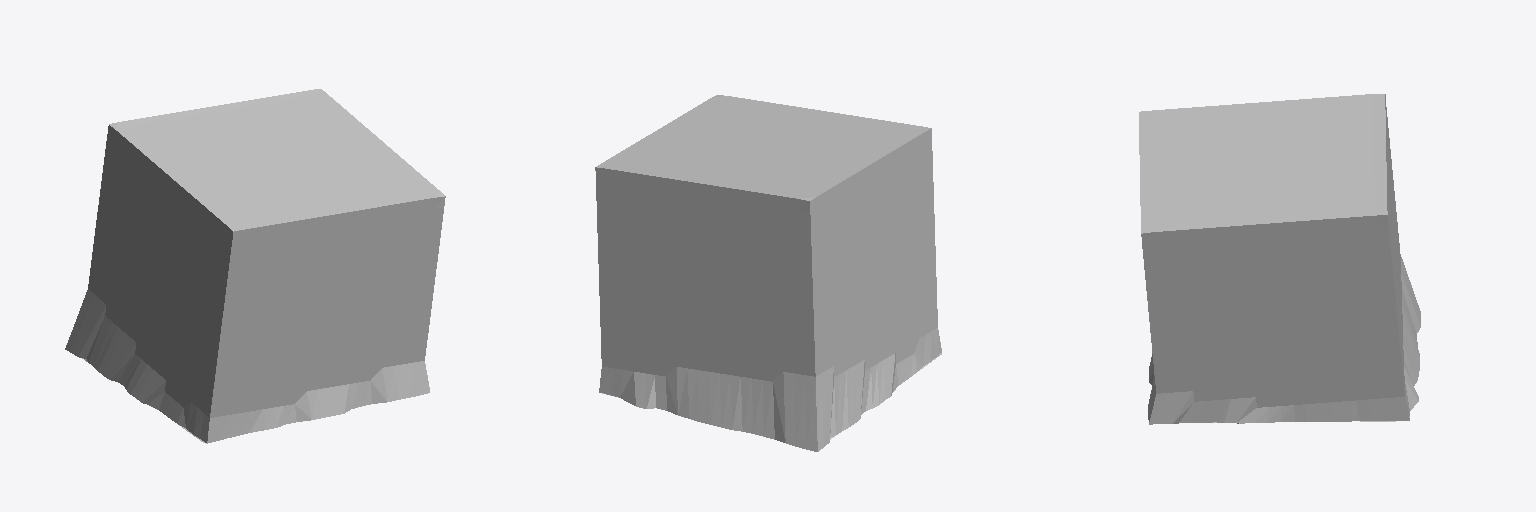
File: mod0009.obj
3 views of the same model, side by side, from view 1: azimuth 30°, elevation 25°; view 2: azimuth 150°, elevation 25°; view 3: azimuth 270°, elevation 25° (orthographic).
Visible parts, largest first — view 1: Box001; view 2: Box001; view 3: Box001.
Boxes of the visible parts, x1,y1,x2,y2 form: Box001: [65, 89, 445, 443]; Box001: [595, 95, 941, 451]; Box001: [1139, 94, 1420, 424].
Bounding box in the file's own units: 0.6081 × 0.5608 × 0.618.